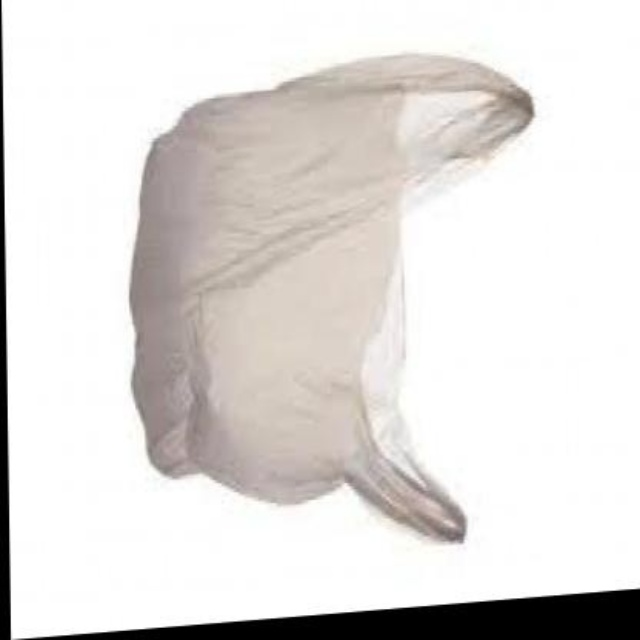trash: (131, 54, 531, 540)
